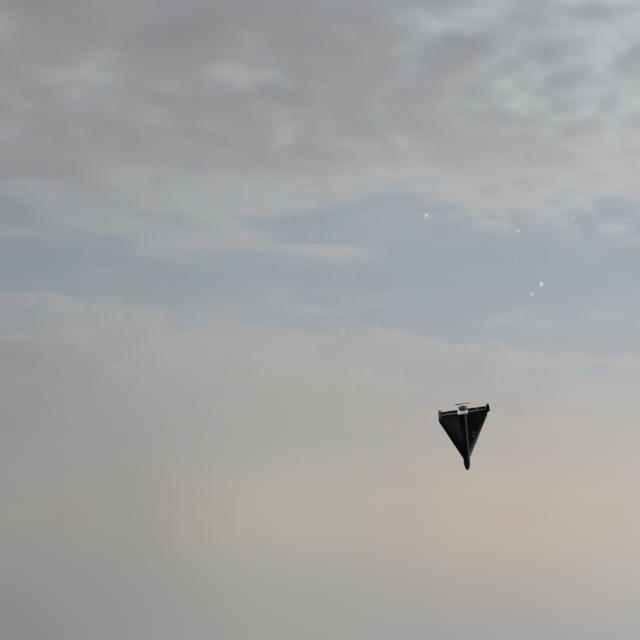Airaplan: (438, 403, 490, 471)
